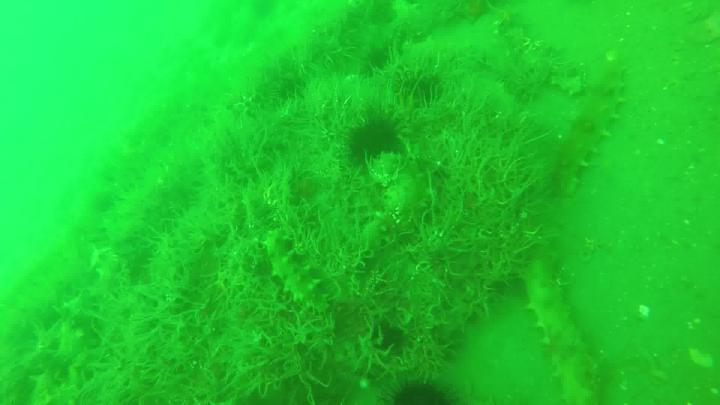echinus: (339, 120, 404, 161), (378, 383, 458, 405), (368, 326, 410, 351)
holothurian: (520, 252, 604, 405), (552, 66, 627, 200), (490, 17, 585, 98), (263, 217, 331, 317)
